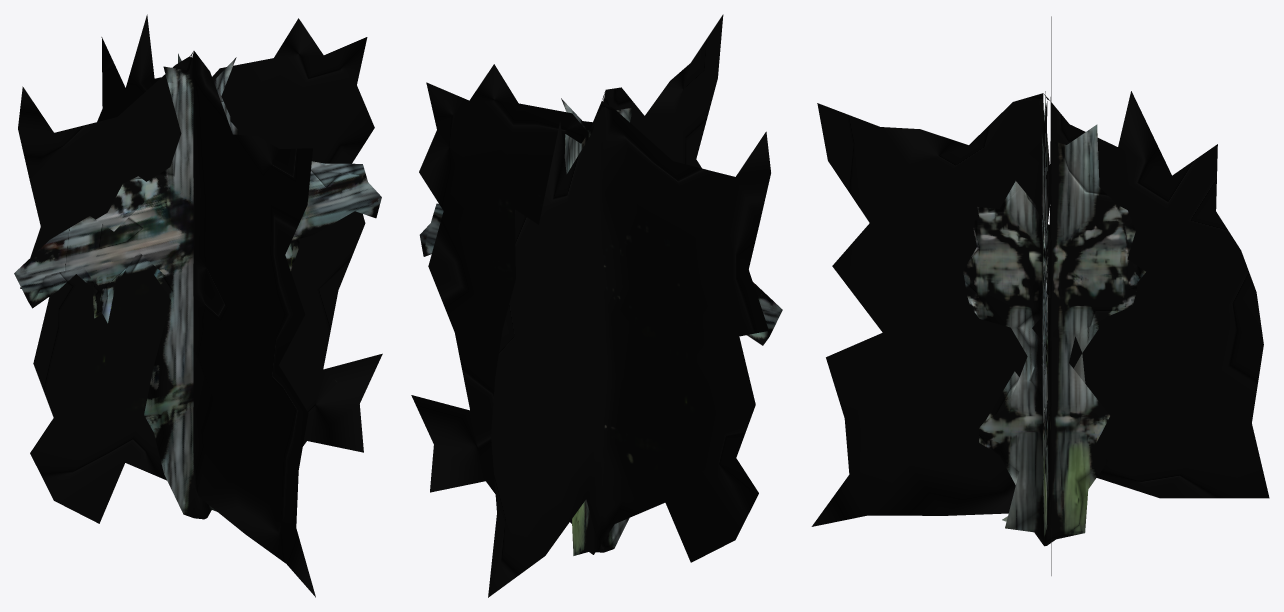
Rendered from weapon-pilgrim-cross.glb.
The picture shows the model from 3 angles, left to right: view 1: azimuth 30°, elevation 25°; view 2: azimuth 150°, elevation 25°; view 3: azimuth 270°, elevation 25°; orthographic projection. The views are drawn at different scales.
Parts seen in each view (by area): view 1: geometry_0; view 2: geometry_0; view 3: geometry_0.
Boxes of the visible parts, <box> form: geometry_0: <box>14,14,382,597</box>; geometry_0: <box>411,14,782,597</box>; geometry_0: <box>811,16,1269,575</box>.
Bounding box in the file's own units: 0.8103 × 0.9879 × 0.9098.
1 material, 1 textured.
